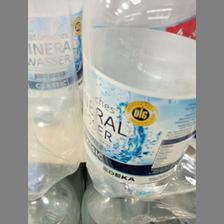Wasser: (82, 2, 194, 196)
